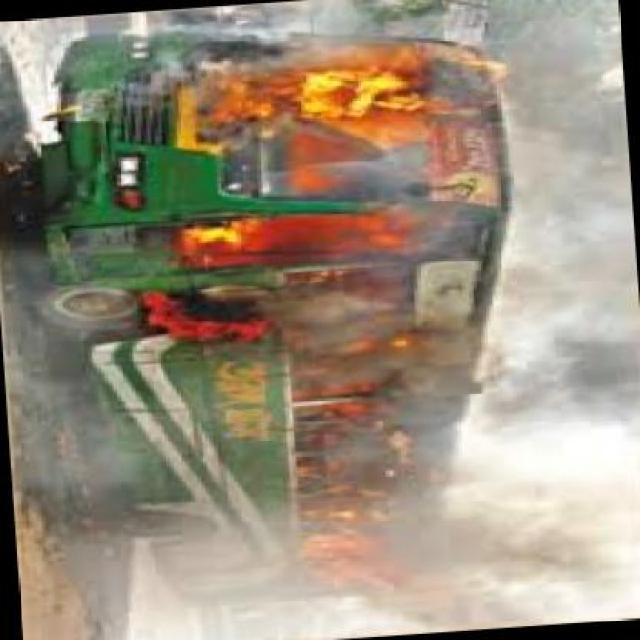Fire: (192, 46, 425, 172), (296, 332, 390, 567), (171, 207, 413, 263), (127, 286, 283, 346)
Smoke: (509, 217, 640, 632), (495, 7, 640, 204)
